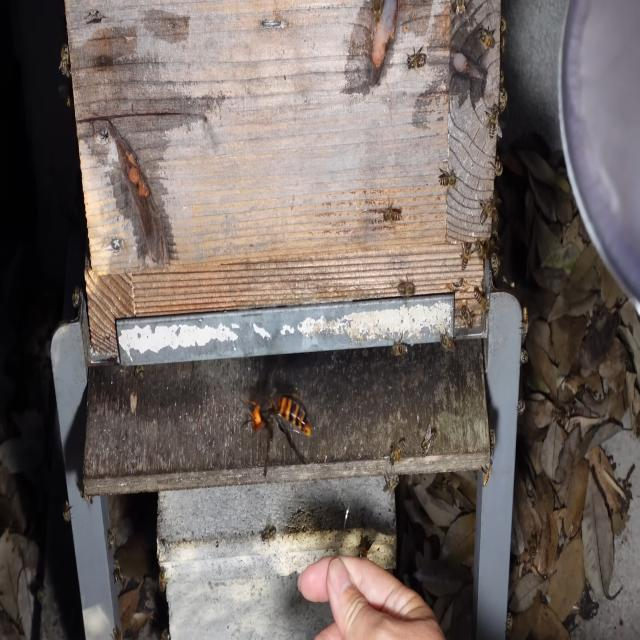Bees: (379, 197, 403, 229), (403, 45, 427, 77), (477, 194, 498, 227), (486, 98, 502, 140), (420, 424, 438, 459), (475, 21, 496, 51), (437, 165, 460, 191), (394, 274, 417, 300), (381, 468, 400, 499), (458, 302, 476, 333), (389, 332, 410, 358), (388, 438, 406, 467), (438, 325, 455, 355), (459, 238, 474, 272), (259, 515, 276, 544), (472, 283, 488, 311), (480, 459, 494, 487), (520, 305, 529, 345), (158, 562, 169, 593), (491, 250, 502, 280), (61, 498, 74, 523), (112, 558, 124, 585), (59, 52, 70, 79), (105, 526, 116, 553), (519, 346, 529, 368), (489, 427, 496, 457), (516, 398, 525, 416)
Hornets: (237, 390, 314, 476)
